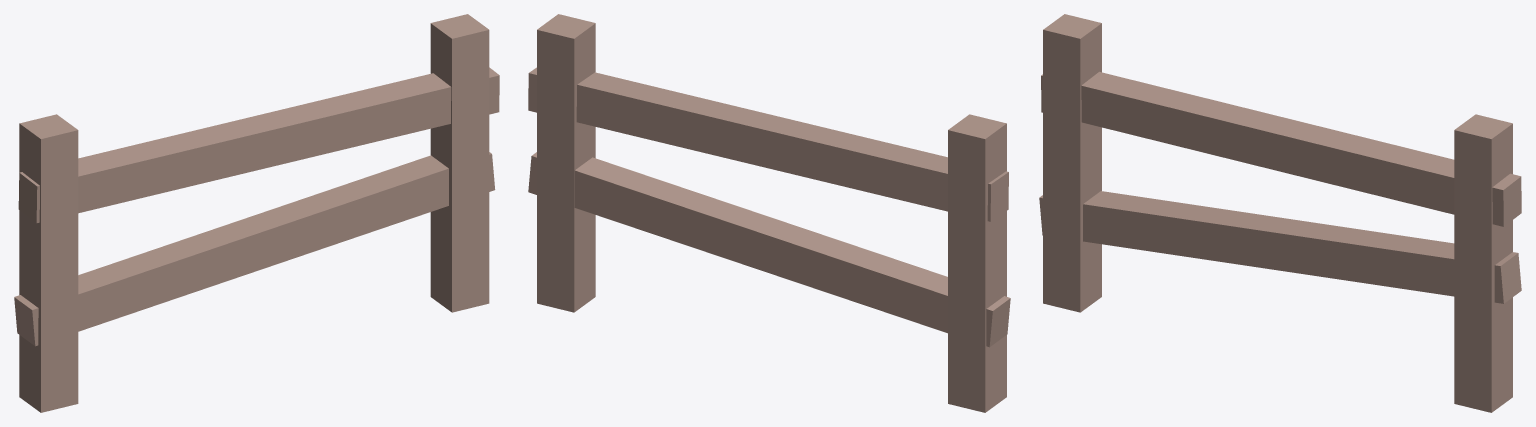
Rendered from Fence3.glb.
3 views of the same model, side by side, from view 1: azimuth 30°, elevation 25°; view 2: azimuth 150°, elevation 25°; view 3: azimuth 330°, elevation 25° (orthographic).
Visible parts, largest first — view 1: group1665241248, group1089299160, group320382041, group251762872; view 2: group1665241248, group1089299160, group320382041, group251762872; view 3: group1089299160, group1665241248, group251762872, group320382041.
Part boxes in pixels (left/top/right/bottom): group1665241248: left=14, top=152, right=495, bottom=346; group1089299160: left=18, top=67, right=499, bottom=223; group320382041: left=19, top=114, right=78, bottom=412; group251762872: left=430, top=14, right=489, bottom=312; group1665241248: left=528, top=152, right=1010, bottom=347; group1089299160: left=528, top=67, right=1008, bottom=221; group320382041: left=948, top=114, right=1006, bottom=412; group251762872: left=537, top=14, right=595, bottom=312; group1089299160: left=1041, top=71, right=1521, bottom=226; group1665241248: left=1039, top=191, right=1521, bottom=303; group251762872: left=1454, top=114, right=1512, bottom=412; group320382041: left=1043, top=14, right=1101, bottom=312.
Size of the model in its own units: 0.9975 by 0.56 by 0.08.
